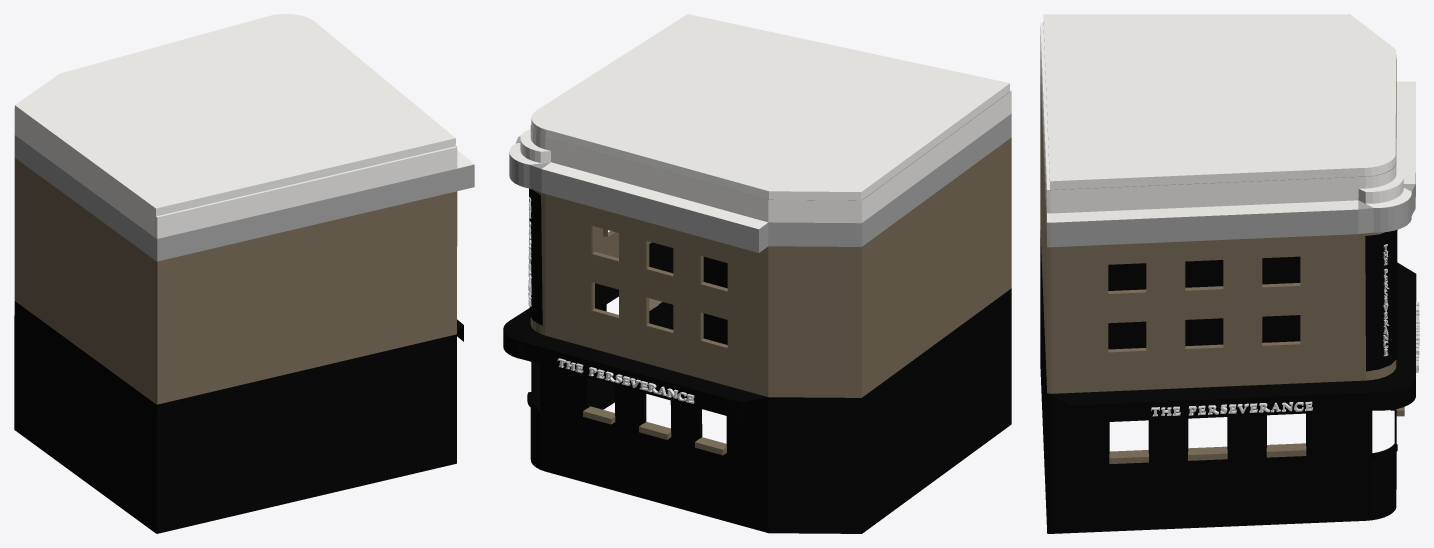
The model's file is Pub3.fbx.
The picture shows the model from 3 angles, left to right: view 1: azimuth 30°, elevation 25°; view 2: azimuth 150°, elevation 25°; view 3: azimuth 270°, elevation 25°; orthographic projection. The views are drawn at different scales.
Parts seen in each view (by area): view 1: Cylinder; view 2: Cylinder, Cylinder.001, Plane.001; view 3: Cylinder, Cylinder.001, Plane.001, Plane.
Boxes of the visible parts, bbox=[...] form: Cylinder: bbox=[14, 14, 474, 533]; Cylinder: bbox=[503, 14, 1011, 533]; Cylinder.001: bbox=[529, 188, 542, 325]; Plane.001: bbox=[557, 358, 694, 403]; Cylinder: bbox=[1040, 14, 1416, 533]; Cylinder.001: bbox=[1365, 229, 1397, 371]; Plane.001: bbox=[1151, 302, 1419, 416]; Plane: bbox=[1383, 244, 1389, 356].
Size of the model in its own units: 2912 by 2888 by 2710.
